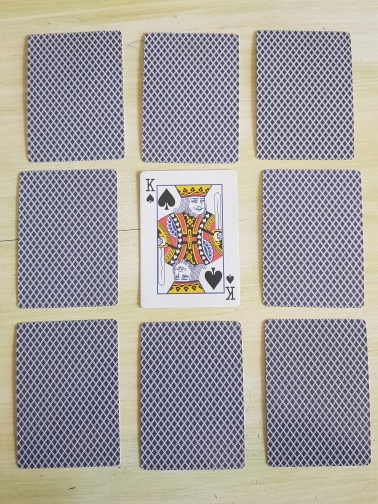king: (139, 169, 240, 309)
